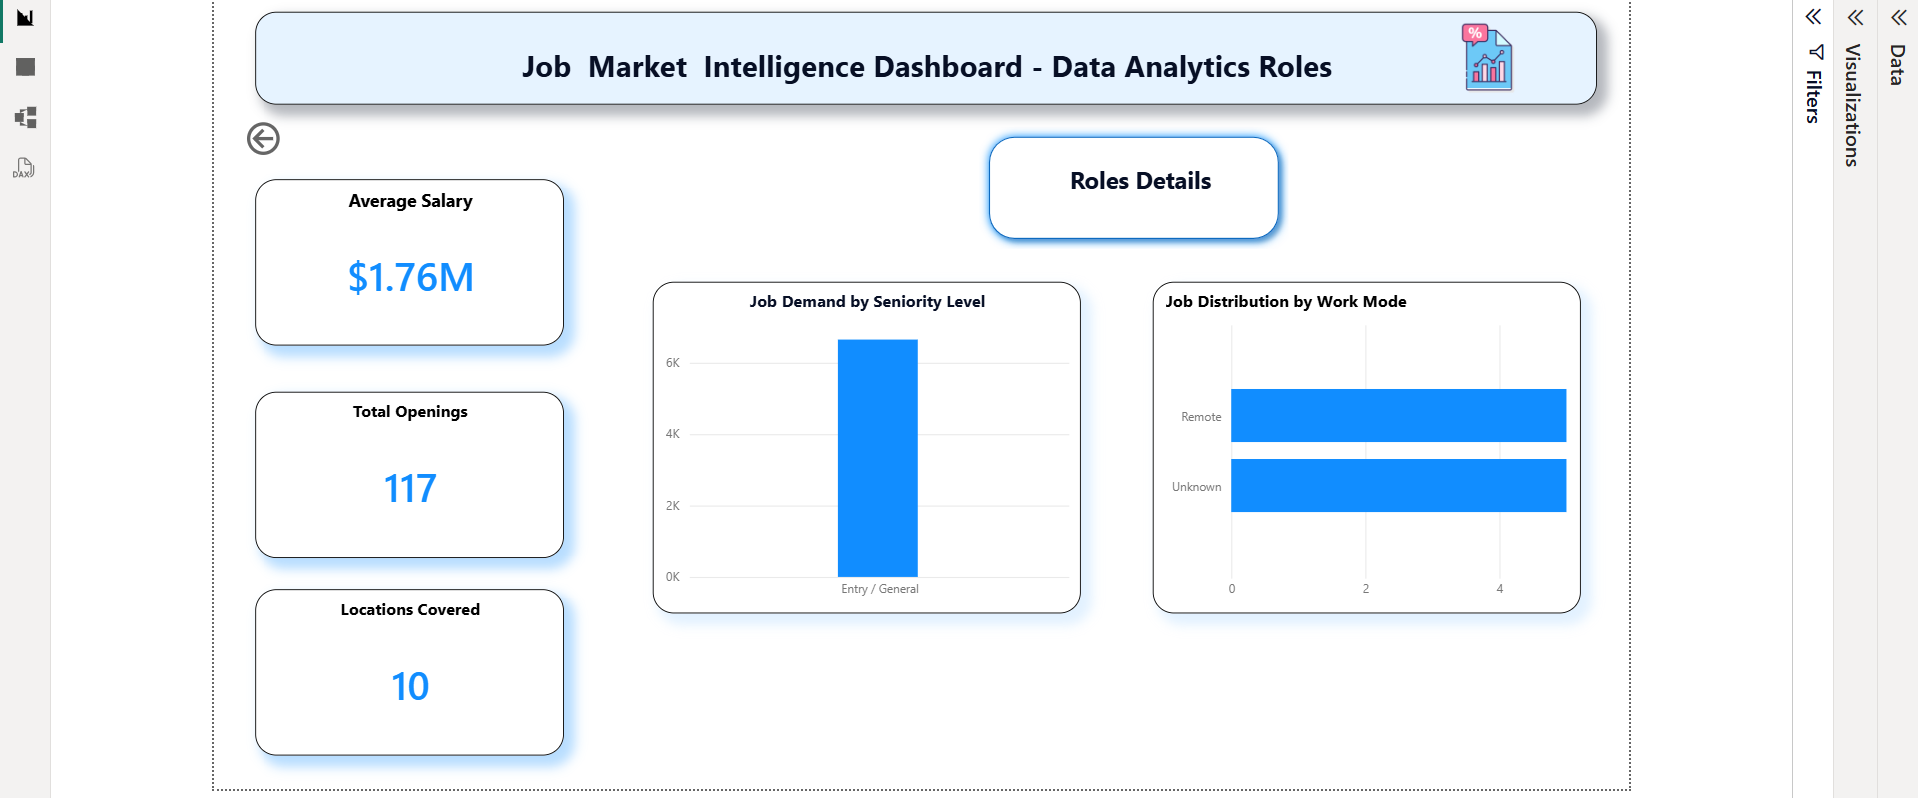

The page's visual inventory and layout, read from the dashboard file:
{"tool":"powerbi","page":{"name":"Role Details","canvas":[1280,720],"ordinal":3},"visuals":[{"type":"textbox","box":[37.2,17.4,1214,83.7],"z":0},{"type":"image","box":[1114.3,4.3,75.7,108.6],"z":1000},{"type":"shape","box":[691.9,120.9,280.2,110.5],"z":2000},{"type":"textbox","box":[691.9,131.4,280.2,86],"z":3000},{"type":"card","title":"Average Salary","fields":{"Values":["Sum(avg_salary_by_location.avg_salary)"]},"box":[37.3,168.5,279.3,150.4],"z":4000},{"type":"card","title":"Total Openings","fields":{"Values":["job_count_by_title.Total Job Postings"]},"box":[37.2,360.5,279.1,150],"z":4001},{"type":"card","title":"Locations Covered","fields":{"Values":["avg_salary_by_location.Locations Covered"]},"box":[37.2,539.5,279.1,150],"z":4002},{"type":"columnChart","title":"Job Demand by Seniority Level","fields":{"Y":["Sum(job_count_by_title.job_count)"],"Category":["job_count_by_title.Seniority"]},"box":[396.5,261.6,387.2,300],"z":4003},{"type":"barChart","title":"Job Distribution by Work Mode","fields":{"Y":["Count(job_count_by_title.job_count)"],"Category":["remote_vs_worktype.work_type"]},"box":[848.8,261.6,387.2,300],"z":4004},{"type":"actionButton","box":[24.4,111.6,100,39.5],"z":4005}]}

Visuals, with their boxes in screenshot pixels (x1, y1, x2, y2):
textbox: 255,9,1584,101
image: 1435,0,1517,114
shape: 972,122,1279,243
textbox: 972,134,1279,228
"Average Salary" card: 256,174,561,339
"Total Openings" card: 255,385,561,549
"Locations Covered" card: 255,581,561,745
"Job Demand by Seniority Level" columnChart: 649,276,1073,605
"Job Distribution by Work Mode" barChart: 1144,276,1568,605
actionButton: 241,112,351,155
